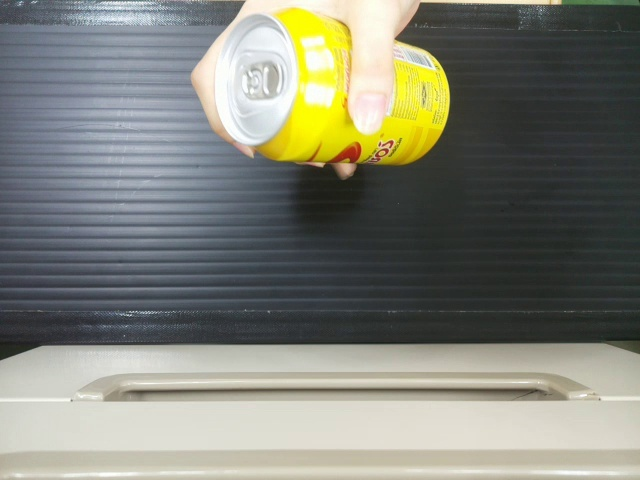can: (219, 12, 448, 161)
